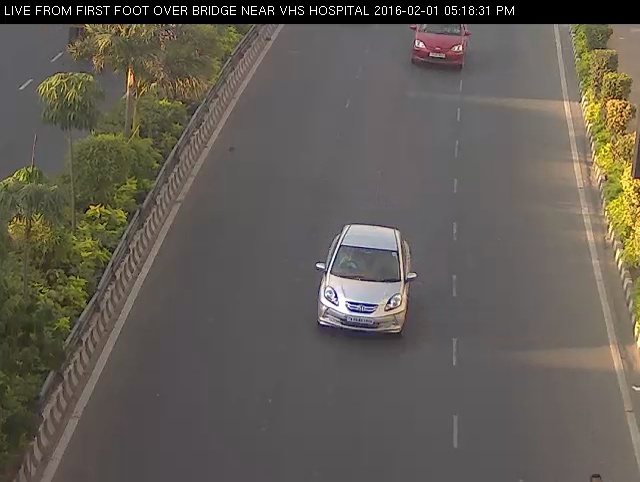Car: (312, 215, 420, 345), (399, 19, 484, 74)
